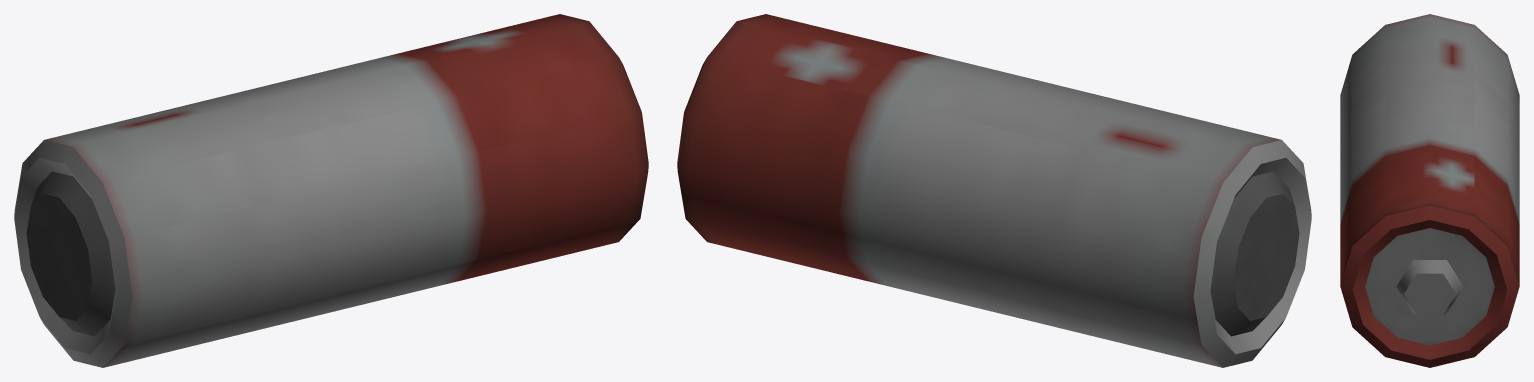
Rendered from battery_mp_1_1.dae.
The picture shows the model from 3 angles, left to right: view 1: azimuth 30°, elevation 25°; view 2: azimuth 150°, elevation 25°; view 3: azimuth 270°, elevation 25°; orthographic projection. The views are drawn at different scales.
Visible parts, largest first — view 1: battery_mp_1_1; view 2: battery_mp_1_1; view 3: battery_mp_1_1.
Boxes of the visible parts, x1,y1,x2,y2 form: battery_mp_1_1: (14, 14, 648, 367); battery_mp_1_1: (677, 14, 1311, 367); battery_mp_1_1: (1340, 14, 1519, 367).
Bounding box in the file's own units: 0.097 × 0.036 × 0.036.
Materials: 1 (1 with a texture image).
